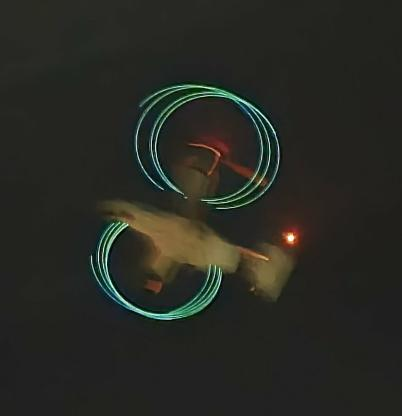Tornado: (89, 84, 300, 320)
